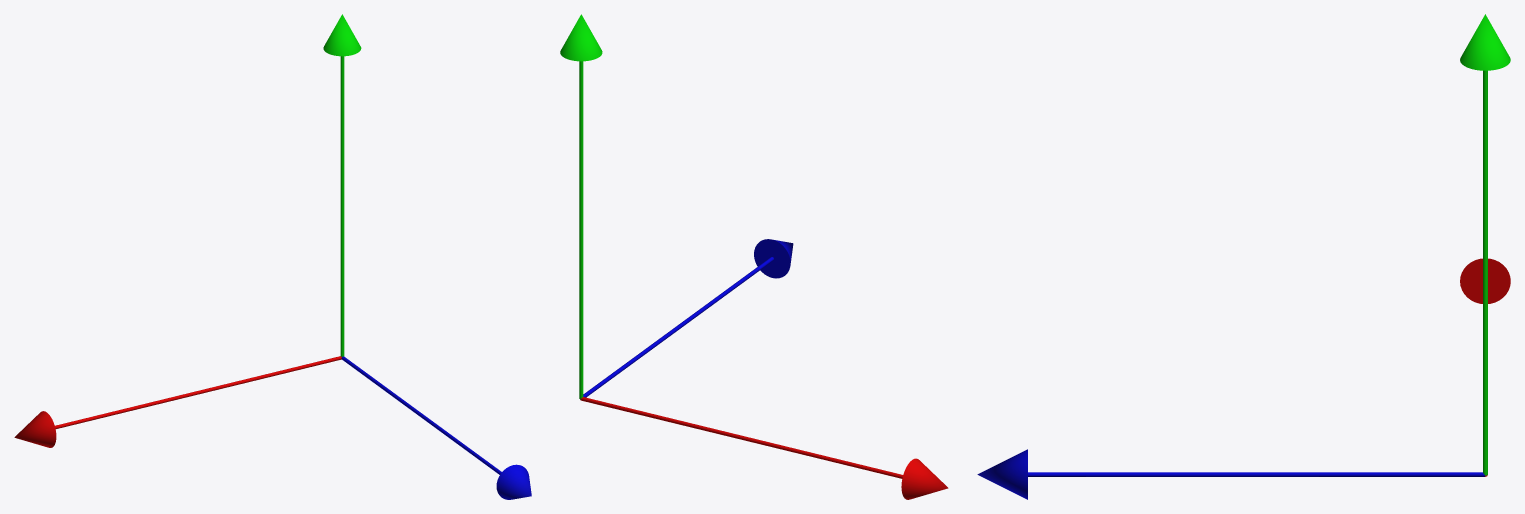
Rendered from Handle_Position.fbx.
The picture shows the model from 3 angles, left to right: view 1: azimuth 30°, elevation 25°; view 2: azimuth 150°, elevation 25°; view 3: azimuth 270°, elevation 25°; orthographic projection. The views are drawn at different scales.
Visible parts, largest first — view 1: Handle_Position; view 2: Handle_Position; view 3: Handle_Position.
Boxes of the visible parts, box(x1,y1,x2,y2) form: Handle_Position: box(14, 14, 531, 499); Handle_Position: box(560, 14, 948, 499); Handle_Position: box(977, 14, 1510, 499).
Size of the model in its own units: 1.05 by 1.05 by 1.05.
